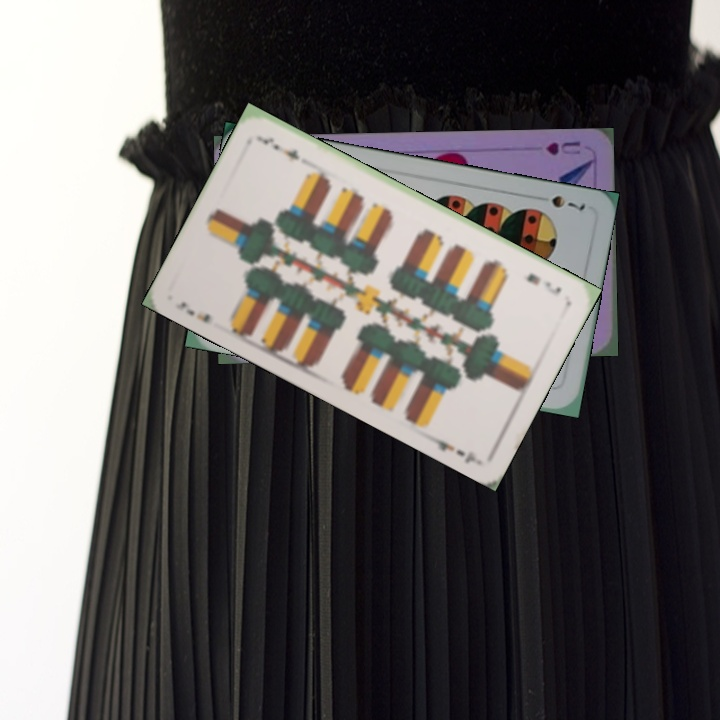E7: (522, 268, 564, 298), (171, 297, 214, 325)
HU: (541, 137, 583, 158)
S7: (547, 191, 588, 213)
